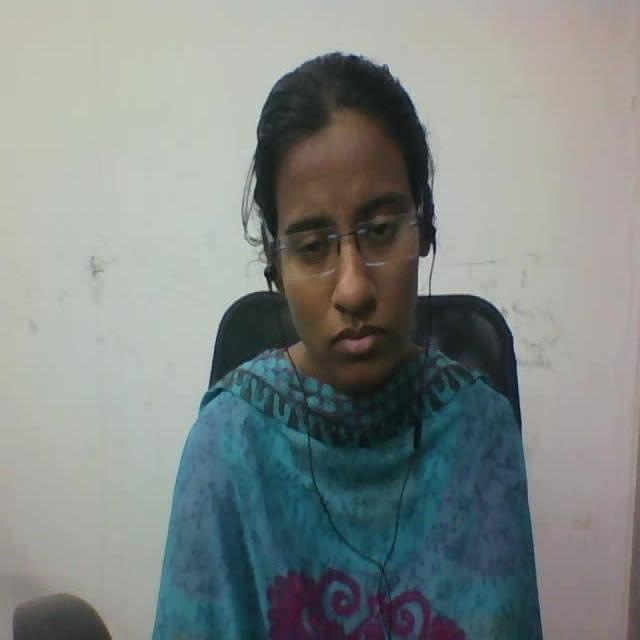Bored: (236, 42, 448, 422)
